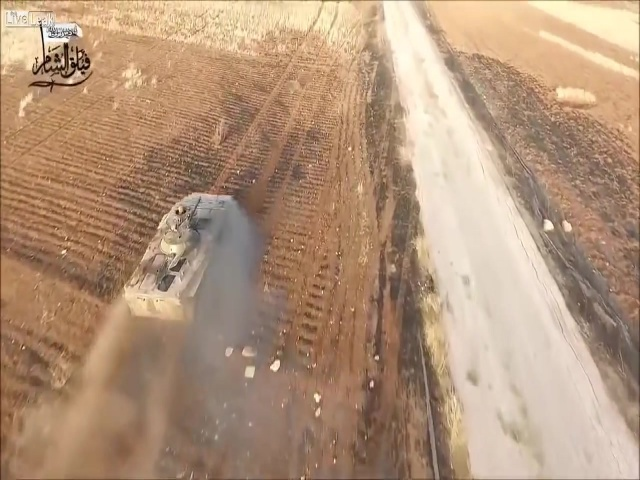vehicle: (124, 191, 237, 320)
